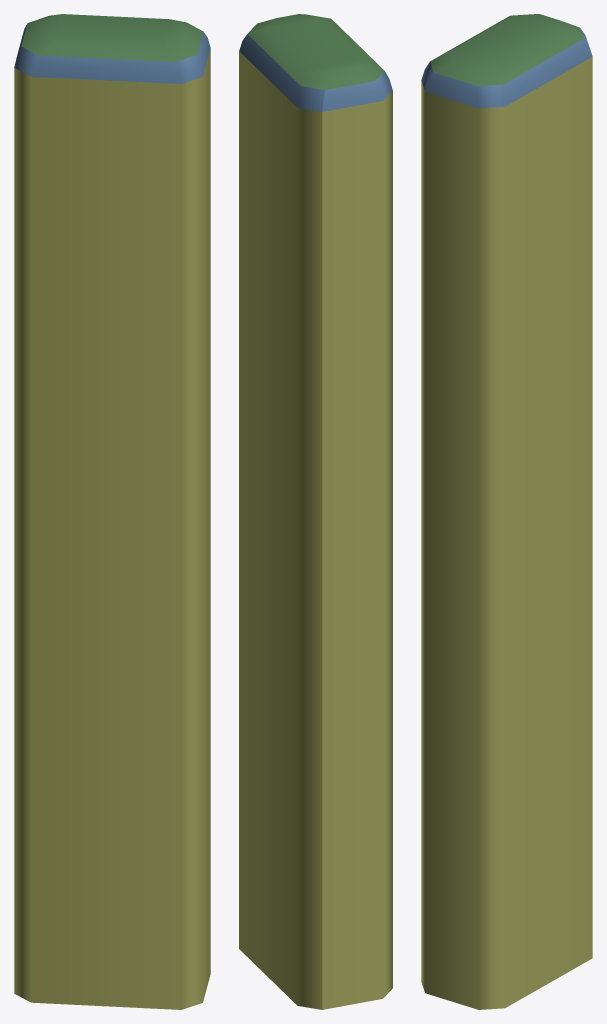
Rendered from Mini_PLat11.fbx.
The picture shows the model from 3 angles, left to right: view 1: azimuth 30°, elevation 25°; view 2: azimuth 150°, elevation 25°; view 3: azimuth 270°, elevation 25°; orthographic projection. The views are drawn at different scales.
Visible parts, largest first — view 1: polySurface149, Ground8, polySurface148; view 2: polySurface149, Ground8, polySurface148; view 3: polySurface149, Ground8, polySurface148.
Part boxes in pixels (x1,y1,x2,y2): polySurface149: (14,49,210,1009); Ground8: (21,14,203,61); polySurface148: (14,24,210,83); polySurface149: (239,51,392,1009); Ground8: (247,14,384,89); polySurface148: (239,34,392,111); polySurface149: (421,57,592,1009); Ground8: (430,14,583,85); polySurface148: (421,28,592,108).
Size of the model in its own units: 2773 by 15089 by 2525.
